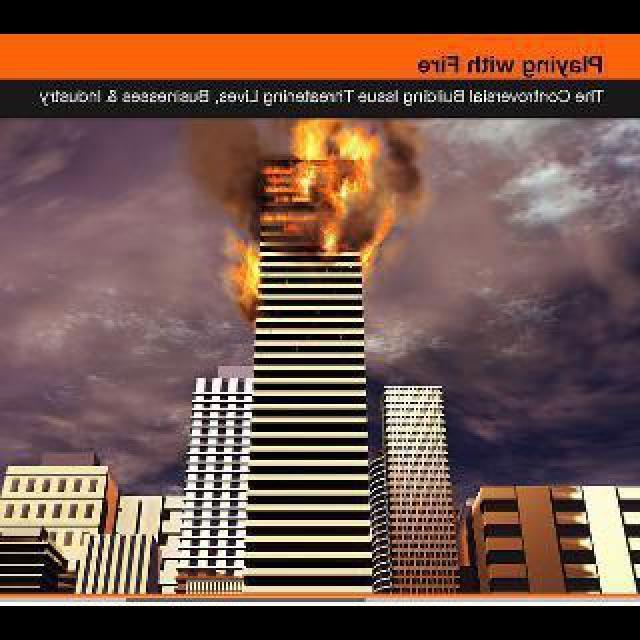Fire: (206, 122, 388, 324)
